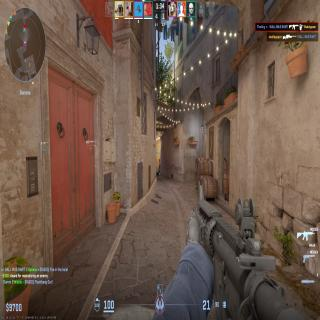T-Body: (158, 158, 161, 173)
T-Head: (159, 158, 160, 162)
